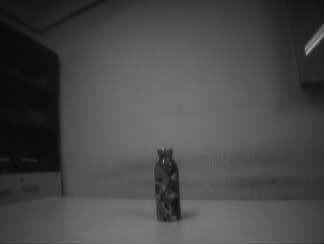Bottle: (154, 147, 181, 222)
